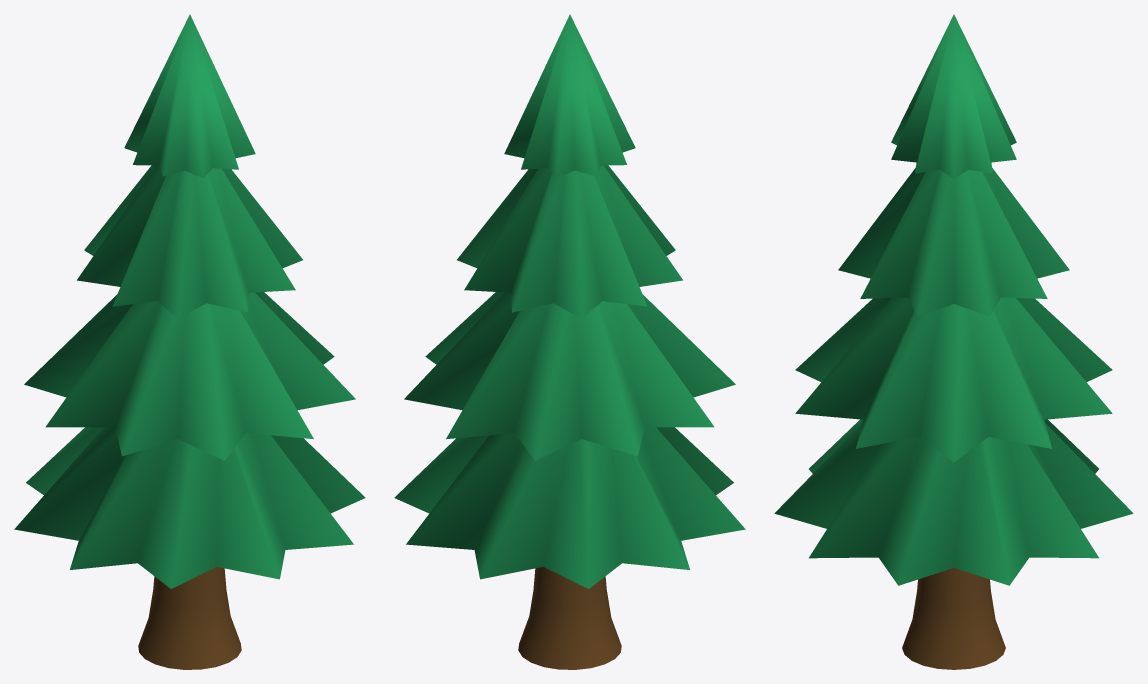
Rendered from pinetree.fbx.
3 renders of one model, left to right at view 1: azimuth 30°, elevation 25°; view 2: azimuth 150°, elevation 25°; view 3: azimuth 270°, elevation 25°, orthographic.
Parts seen in each view (by area): view 1: pCylinder2; view 2: pCylinder2; view 3: pCylinder2.
Part boxes in pixels (x1,y1,x2,y2): pCylinder2: [14, 14, 365, 669]; pCylinder2: [394, 14, 745, 669]; pCylinder2: [774, 14, 1133, 669].
Size of the model in its own units: 569 by 1164 by 598.
